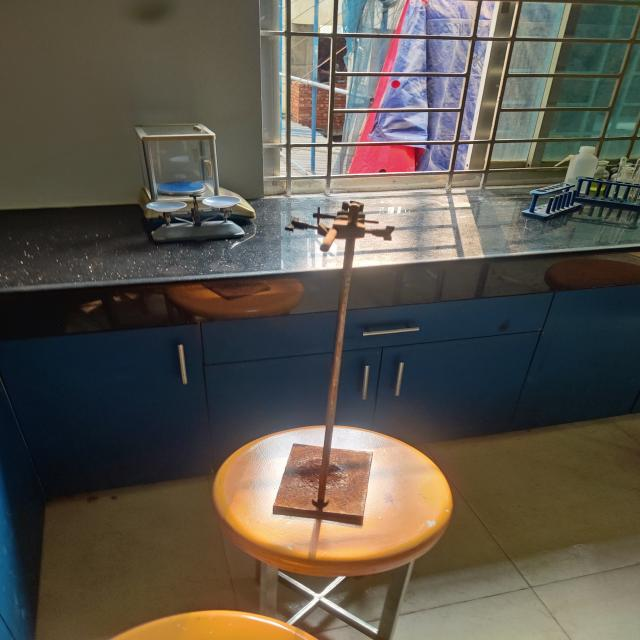Burette_Stands: (259, 180, 392, 535)
